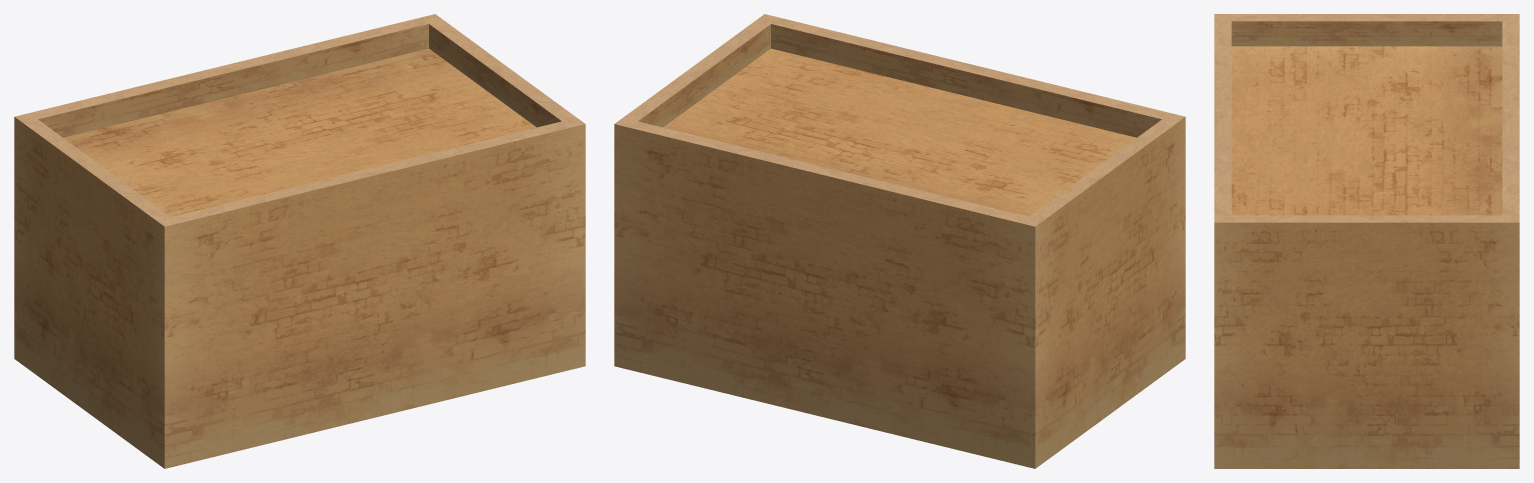
File: House_09.fbx
3 views of the same model, side by side, from view 1: azimuth 30°, elevation 25°; view 2: azimuth 150°, elevation 25°; view 3: azimuth 270°, elevation 25° (orthographic).
Visible parts, largest first — view 1: House_09; view 2: House_09; view 3: House_09.
Boxes of the visible parts, x1,y1,x2,y2 form: House_09: [14, 14, 585, 468]; House_09: [614, 14, 1185, 468]; House_09: [1214, 14, 1519, 468].
Size of the model in its own units: 166 by 91.2 by 103.
